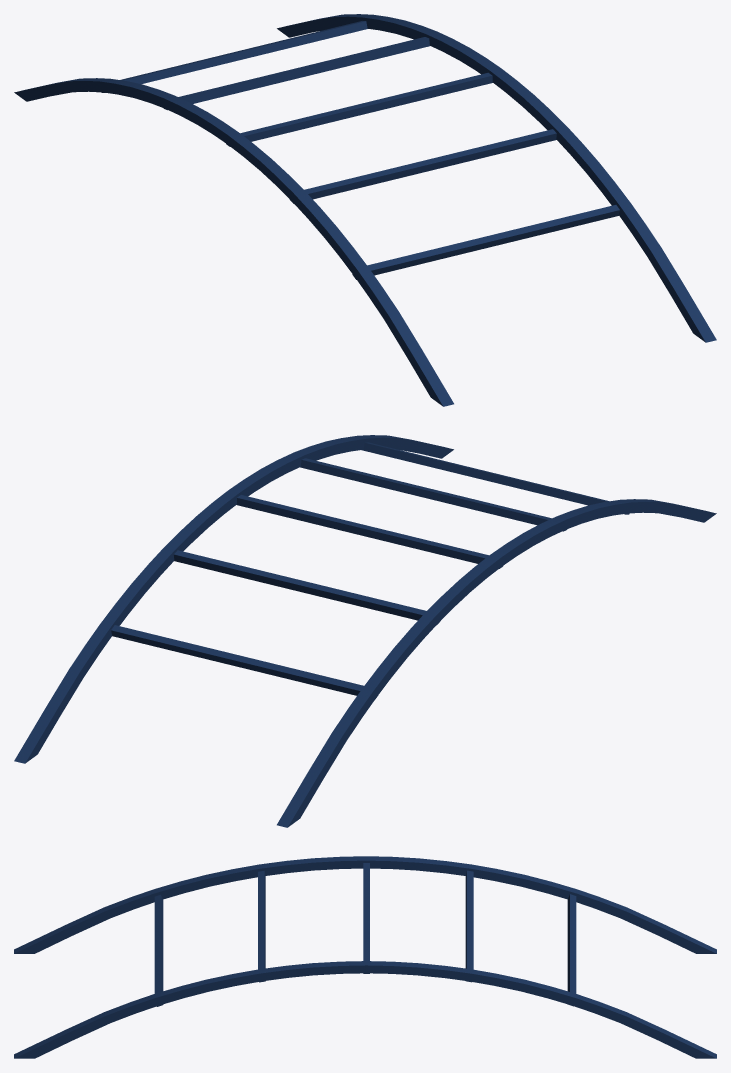
File: Roof02.fbx
3 views of the same model, one above another, from view 1: azimuth 30°, elevation 25°; view 2: azimuth 150°, elevation 25°; view 3: azimuth 270°, elevation 25° (orthographic). The views are drawn at different scales.
Parts seen in each view (by area): view 1: Roof 02; view 2: Roof 02; view 3: Roof 02.
Boxes of the visible parts, box(x1,y1,x2,y2) form: Roof 02: box(14, 14, 716, 406); Roof 02: box(14, 435, 716, 827); Roof 02: box(14, 856, 716, 1058).
Bounding box in the file's own units: 491 × 196 × 1337.
